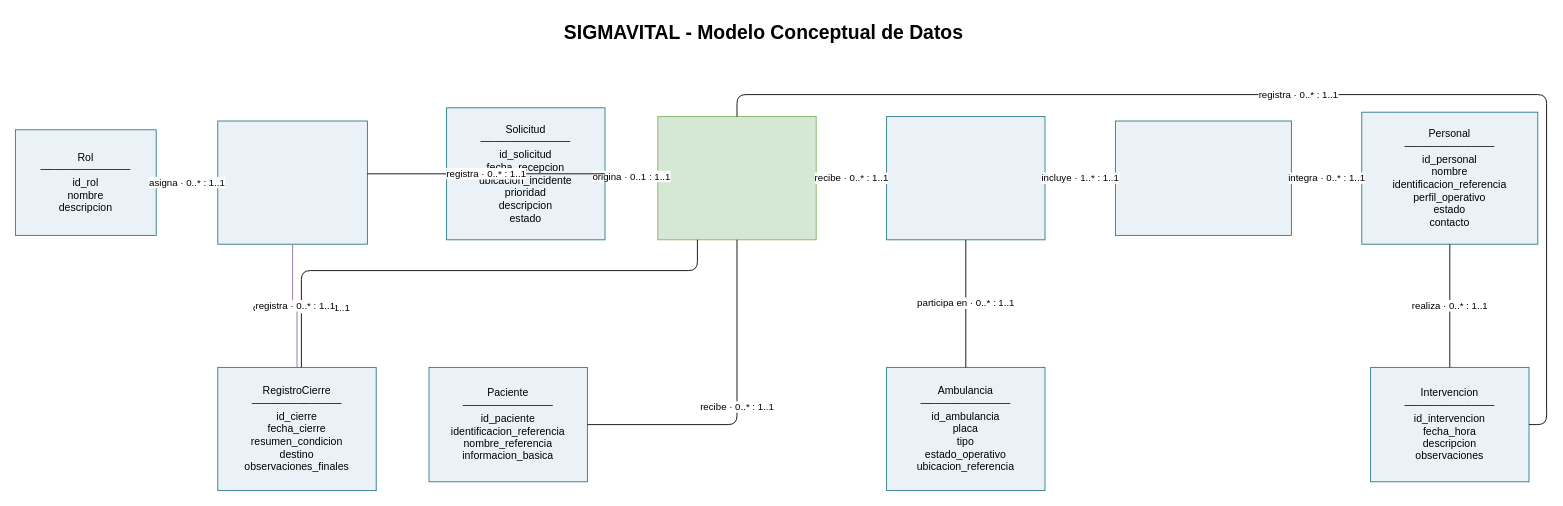
This 1563x506 diagram has some shape labels left out. Here are the shapes that lost their labels. From the top down, the centre of each, then its label:
pixel 292 182: Usuario ──────────── id_usuario nombre correo estado fecha_creacion
pixel 736 178: Servicio ──────────── id_servicio fecha_inicio estado fecha_finalizacion destino
pixel 965 178: Asignacion ──────────── id_asignacion fecha_asignacion estado observaciones
pixel 1203 177: AsignacionPersonal ──────────── id_asignacion_personal funcion fecha_vinculacion
